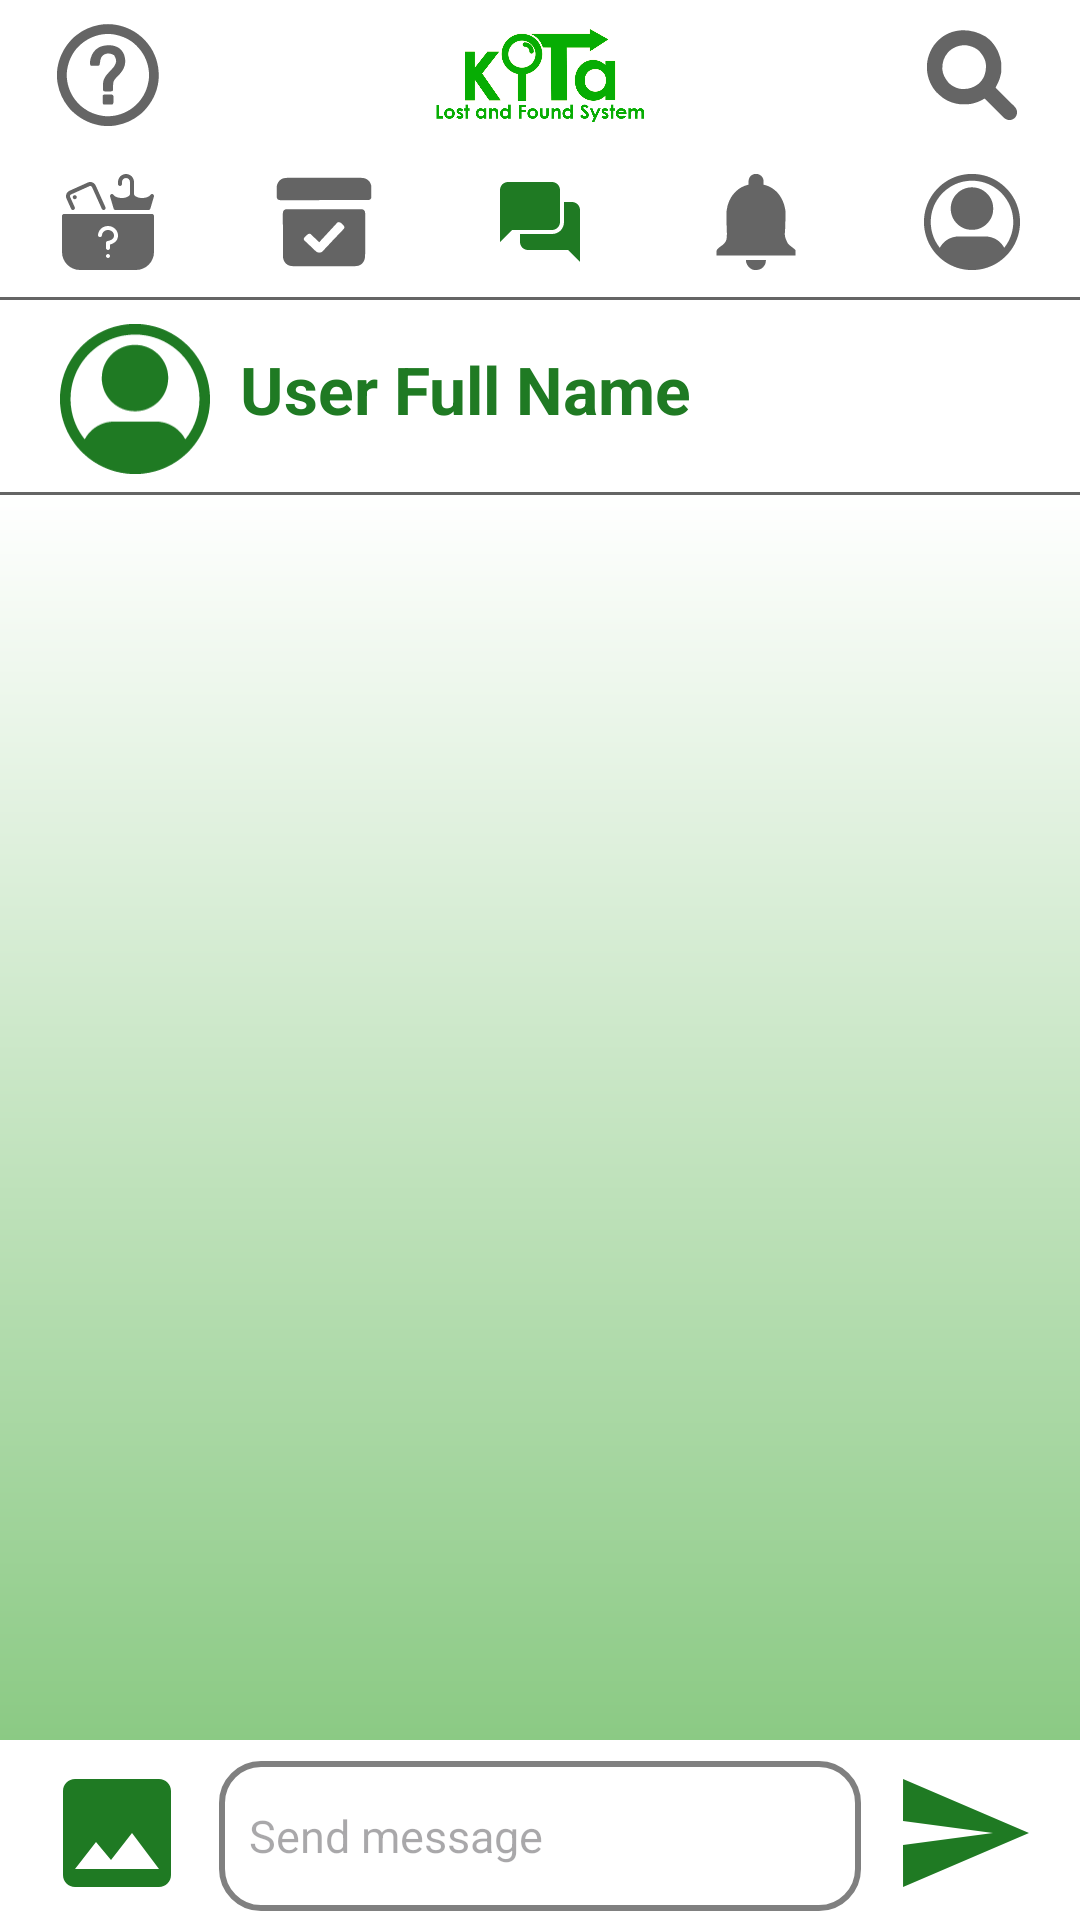

Where to tap for icons on this 1080 × 1920 app screen, as point (x, y):
chat: point (540, 222)
found: point (324, 222)
guide: point (108, 75)
lost: point (108, 222)
notification: point (756, 222)
profile: point (972, 222), point (135, 399)
search: point (972, 75)
uploadphoto: point (117, 1833)
